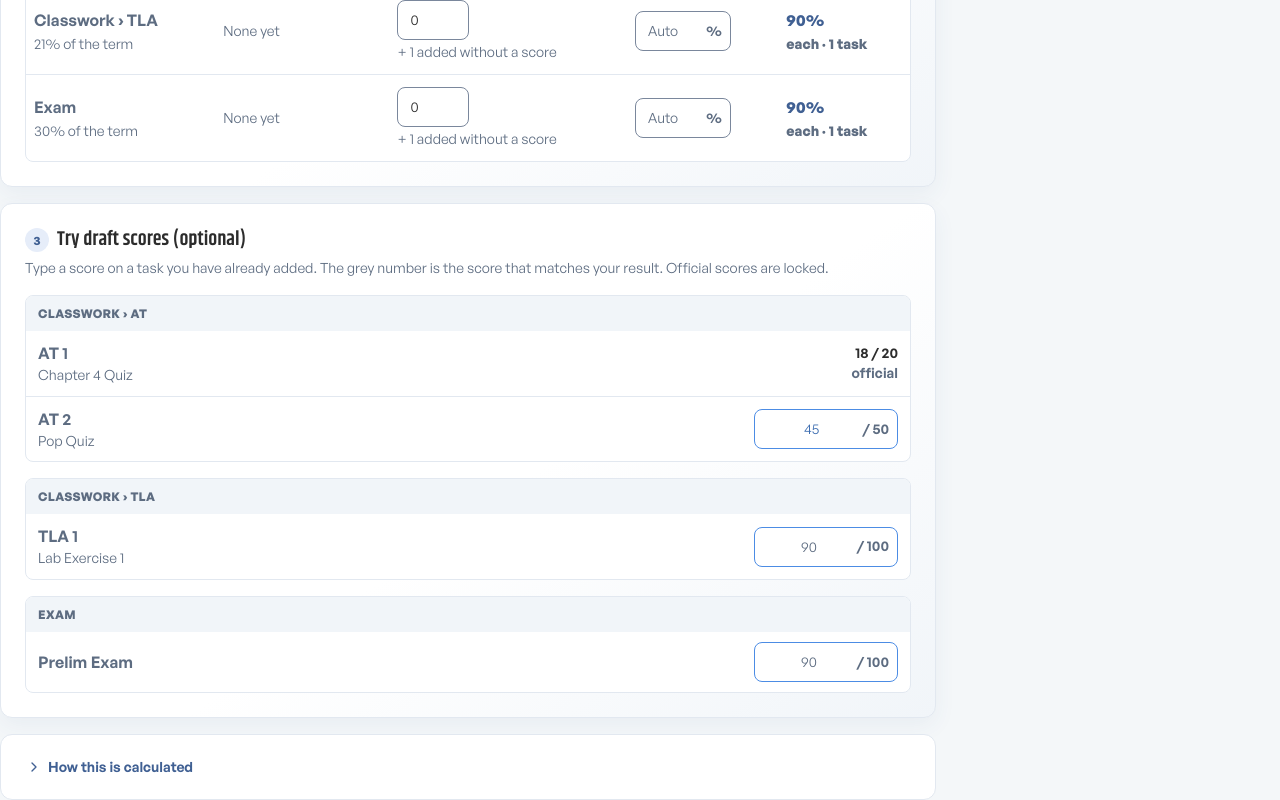
Test case: draft scores › starts from the real self-reported score, and a cleared box counts as no score
(page scrolled)
Clear the field labelled "AT 2 Pop Quiz / 50": (809, 429) x1=755 y1=409 x2=862 y2=449
(page scrolled)
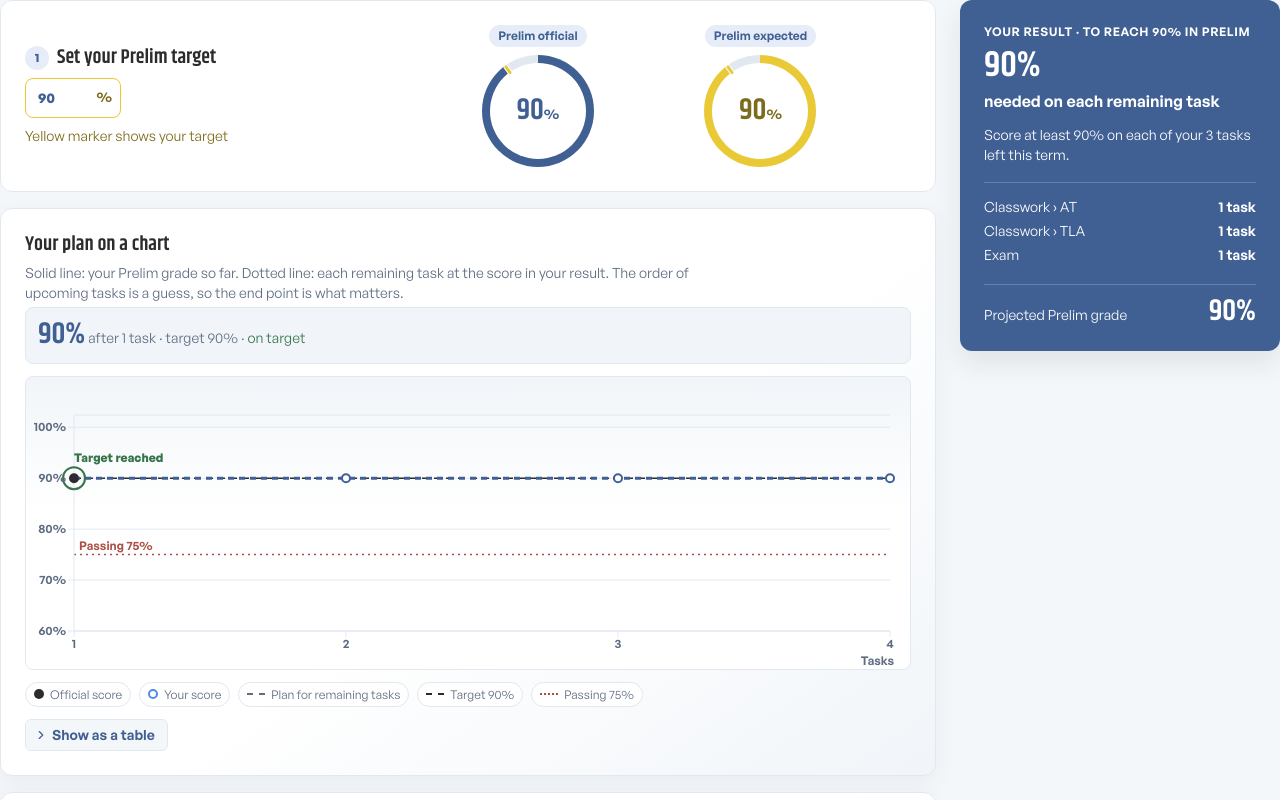
expect the element labelled "Your result" shows "on each of your 3 tasks left this term.": met, box x1=984 y1=126 x2=1251 y2=164
